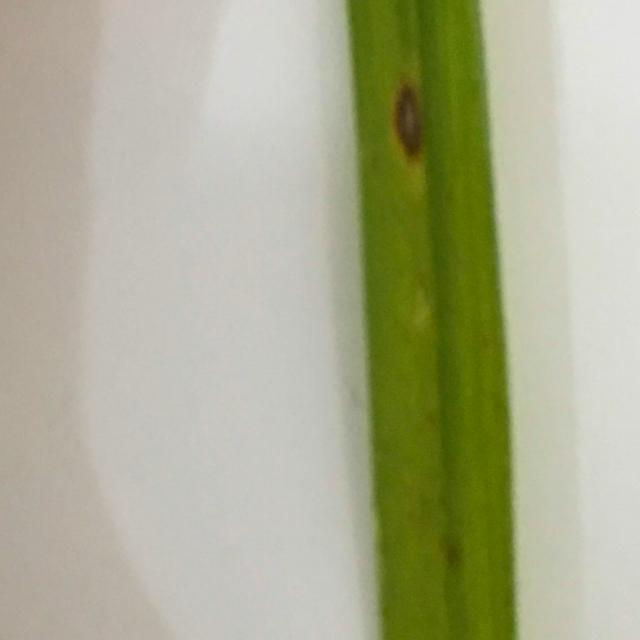Blast: (393, 88, 421, 153)
